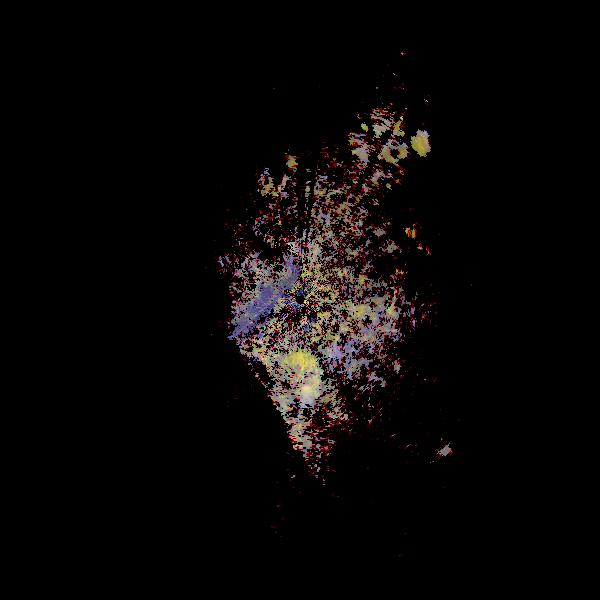roost: (400, 198, 463, 261), (266, 346, 329, 409), (249, 156, 297, 204)
